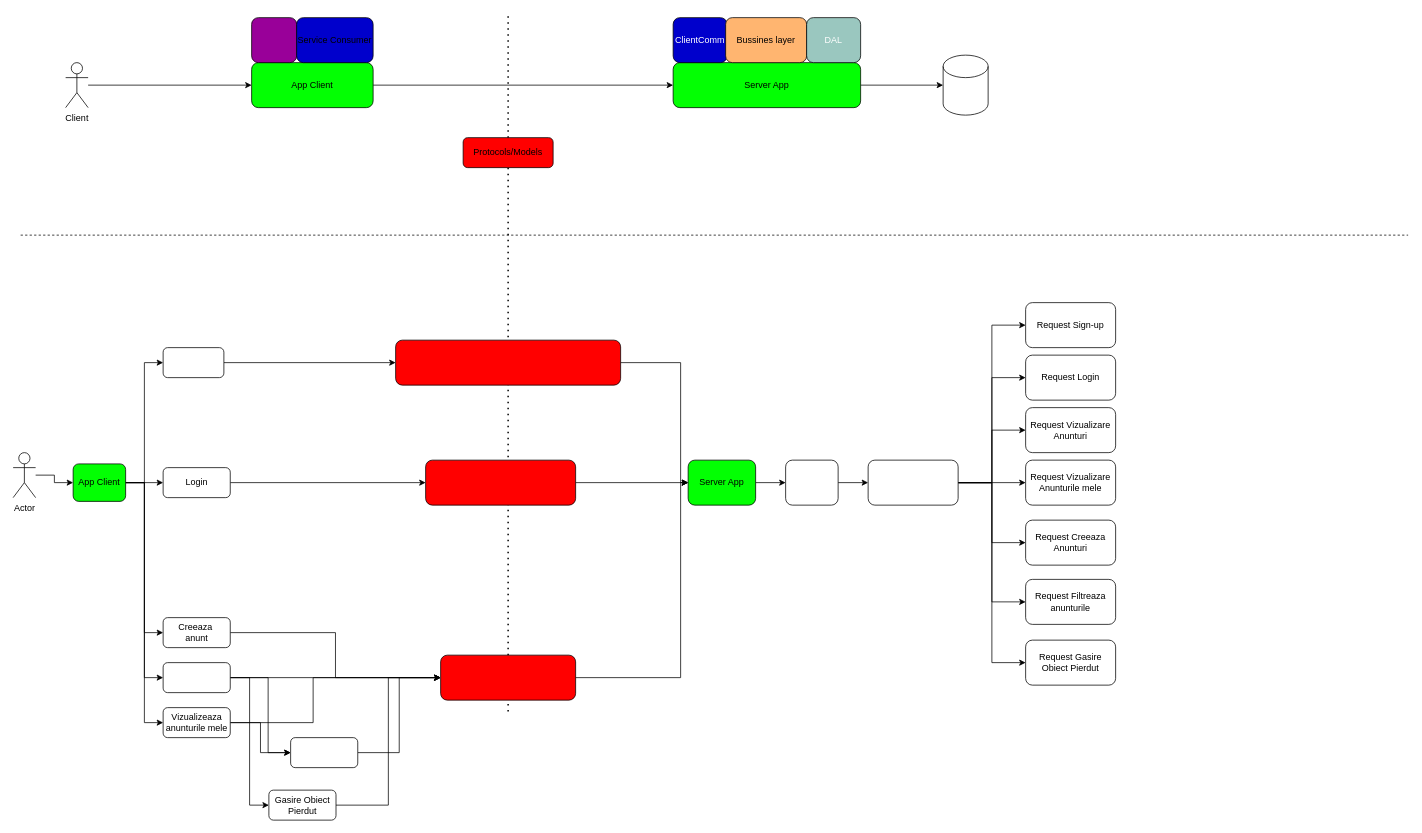
The diagram is 1422 pixels wide and 833 high, and some of its shapes have lost their labels. Each missing label, with the centre of its shape:
1_email_parola_nume_prenume_anStudiu_dataNastere: the point at 508,362
2_email_parola: the point at 500,482
DB: the point at 965,84
Filtreaza anunturile: the point at 324,752
Getter: the point at 811,482
GUI: the point at 274,40
Request Factory: the point at 912,482
Sign-Up: the point at 193,362
Vizualizeaza anunturile: the point at 196,677
X_email_parola_cmp_date: the point at 508,677
